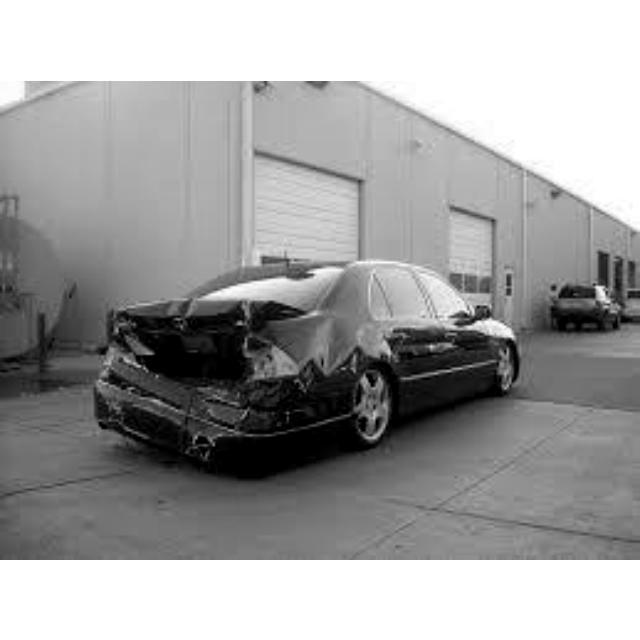quaterpanel-dent: (289, 312, 385, 386)
rear-bumper-dent: (97, 382, 260, 443)
